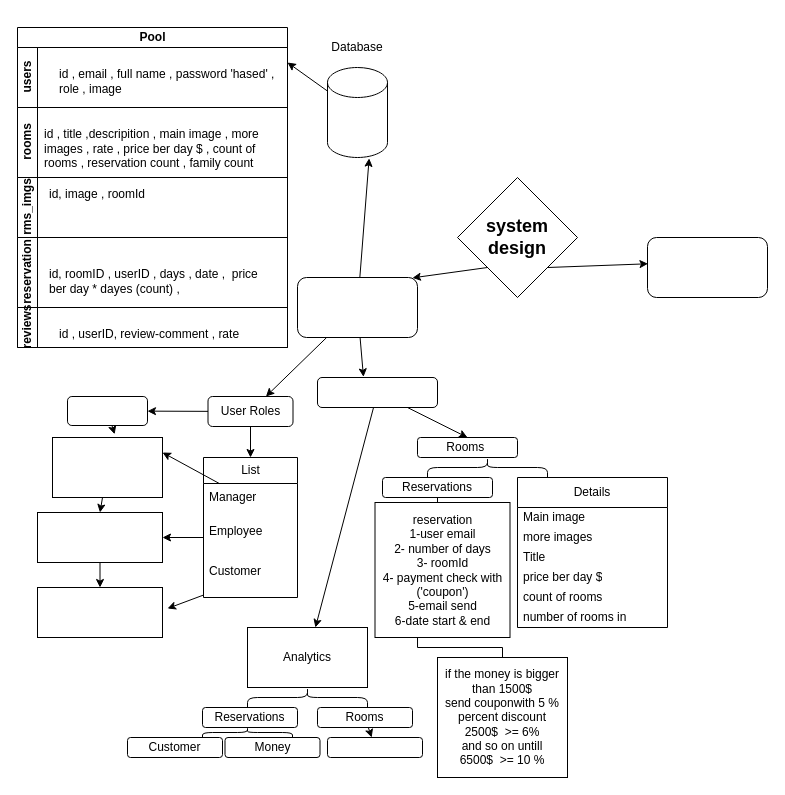
This 785x795 diagram has some shape labels left out. The shapes that lost their labels are listed below. From the top down, each one's centre as x and y in pixels, then its label:
pixel 707 267: Frontend
pixel 357 307: backend
pixel 107 411: Permissions
pixel 377 392: Hotel
pixel 107 467: All Permissions to deal with users roles
pixel 99 537: Update and create rooms and show Analytics
pixel 99 612: Use service and add review to the room or the service
pixel 374 747: Important Rooms
